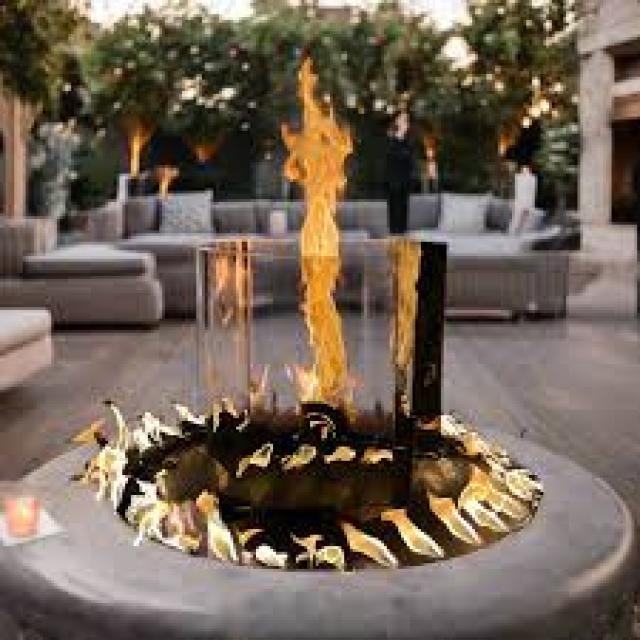fire: (281, 54, 359, 420), (126, 468, 201, 555), (466, 431, 540, 500), (201, 492, 260, 564), (110, 403, 178, 451), (382, 506, 443, 558), (82, 446, 128, 513), (427, 491, 479, 546), (343, 520, 397, 568), (467, 479, 525, 517), (458, 492, 505, 534), (296, 531, 344, 570)
